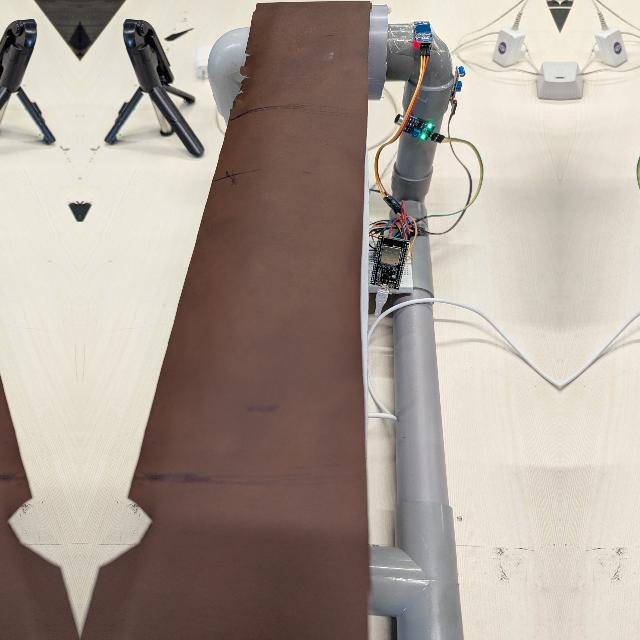belt_tear: (93, 479, 165, 575), (0, 479, 66, 575)
edge_damage: (226, 46, 261, 121)
